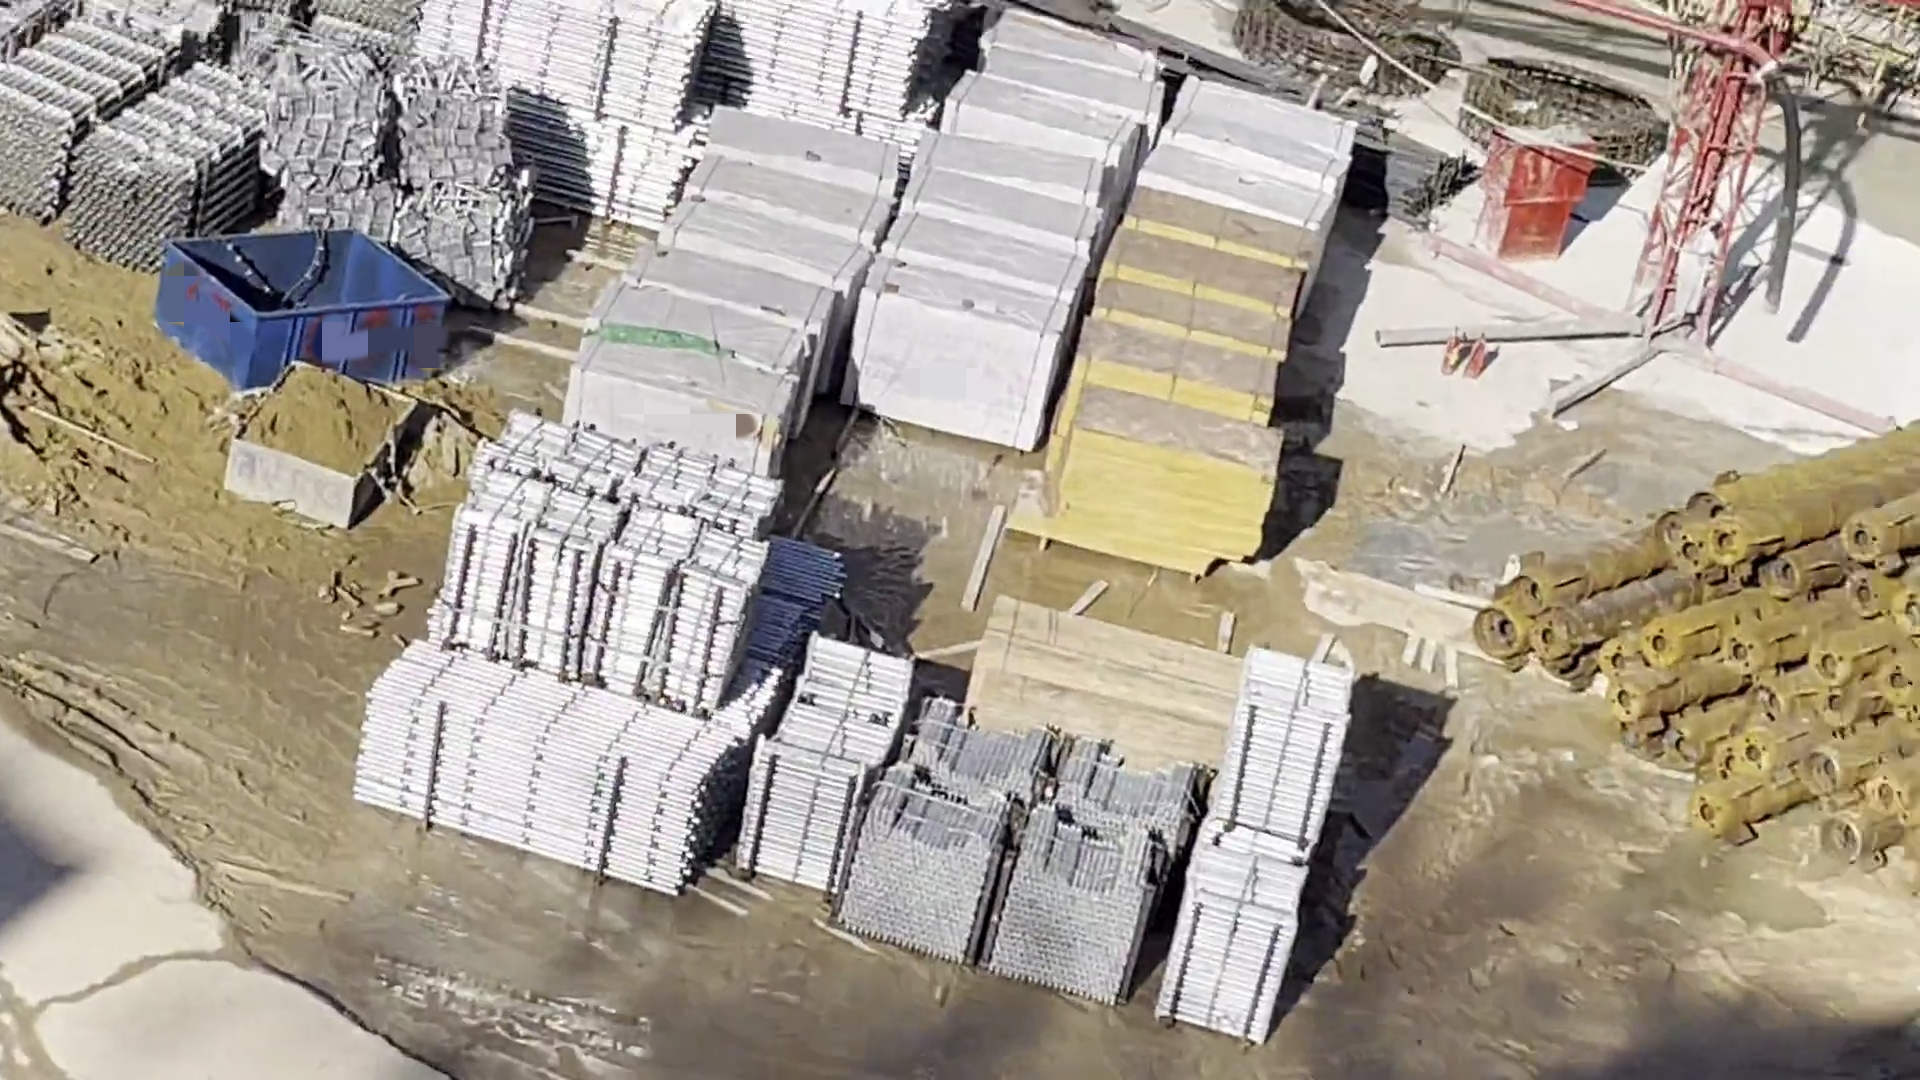board: (976, 427, 1261, 537), (1079, 342, 1263, 392), (1095, 280, 1259, 319), (1156, 211, 1288, 236)
hopper: (175, 243, 426, 397)
rebar: (1534, 454, 1920, 794), (1367, 127, 1458, 225)
scaffold: (364, 634, 704, 865), (484, 426, 736, 686), (1156, 657, 1333, 1009), (903, 827, 1201, 978), (37, 1, 229, 229), (729, 657, 928, 874), (712, 1, 931, 123), (492, 1, 703, 116), (488, 146, 680, 229), (342, 1, 423, 41)
